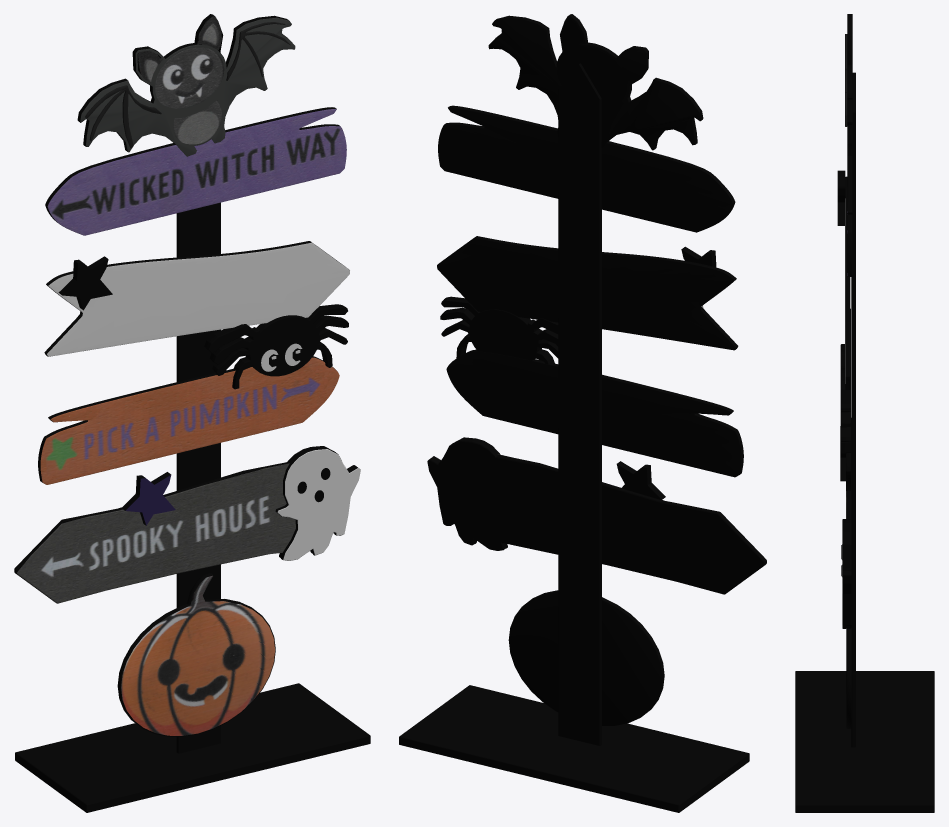
File: HALLOWEEN5.obj
3 views of the same model, side by side, from view 1: azimuth 30°, elevation 25°; view 2: azimuth 150°, elevation 25°; view 3: azimuth 270°, elevation 25° (orthographic). The views are drawn at different scales.
Visible parts, largest first — view 1: SPOOKY_HOUSE_SIGN.001, Plane.001, POTION_SIGN, WICKED_WITCH_SIGN, PICK_A_PUMKIN_SIGN, PUMKIN_FACE, BAT, Plane, SPIDER, SPOOKY_HOUSE_SIGN.002, BLACK_STAR, PURPLE_STAR; view 2: Plane, SPOOKY_HOUSE_SIGN.001, Plane.001, POTION_SIGN, WICKED_WITCH_SIGN, PICK_A_PUMKIN_SIGN, BAT, PUMKIN_FACE, SPIDER, PURPLE_STAR; view 3: Plane.001, Plane, BAT, SPIDER, POTION_SIGN, SPOOKY_HOUSE_SIGN.001, WICKED_WITCH_SIGN, PUMKIN_FACE, BLACK_STAR, SPOOKY_HOUSE_SIGN.002.
Part boxes in pixels (x1,y1,x2,y2): SPOOKY_HOUSE_SIGN.001: [14, 446, 355, 603]; Plane.001: [15, 683, 370, 812]; POTION_SIGN: [44, 241, 349, 356]; WICKED_WITCH_SIGN: [45, 107, 346, 235]; PICK_A_PUMKIN_SIGN: [38, 356, 339, 484]; PUMKIN_FACE: [117, 573, 275, 736]; BAT: [77, 14, 295, 156]; Plane: [176, 202, 220, 753]; SPIDER: [204, 304, 348, 389]; SPOOKY_HOUSE_SIGN.002: [275, 447, 360, 560]; BLACK_STAR: [58, 256, 112, 310]; PURPLE_STAR: [121, 472, 175, 525]; Plane: [558, 63, 601, 745]; SPOOKY_HOUSE_SIGN.001: [427, 438, 766, 594]; Plane.001: [399, 685, 749, 812]; POTION_SIGN: [437, 236, 738, 350]; WICKED_WITCH_SIGN: [438, 105, 735, 232]; PICK_A_PUMKIN_SIGN: [446, 349, 743, 477]; BAT: [488, 14, 703, 150]; PUMKIN_FACE: [508, 590, 664, 725]; SPIDER: [440, 296, 558, 364]; PURPLE_STAR: [616, 461, 665, 499]; Plane.001: [795, 671, 934, 812]; Plane: [851, 72, 855, 747]; BAT: [845, 14, 852, 159]; SPIDER: [840, 344, 850, 453]; POTION_SIGN: [845, 176, 850, 389]; SPOOKY_HOUSE_SIGN.001: [846, 418, 851, 628]; WICKED_WITCH_SIGN: [847, 155, 852, 276]; PUMKIN_FACE: [846, 608, 851, 728]; BLACK_STAR: [837, 170, 845, 225]; SPOOKY_HOUSE_SIGN.002: [841, 519, 845, 628].
Size of the model in its own units: 0.5007 by 1.03 by 0.1819.
